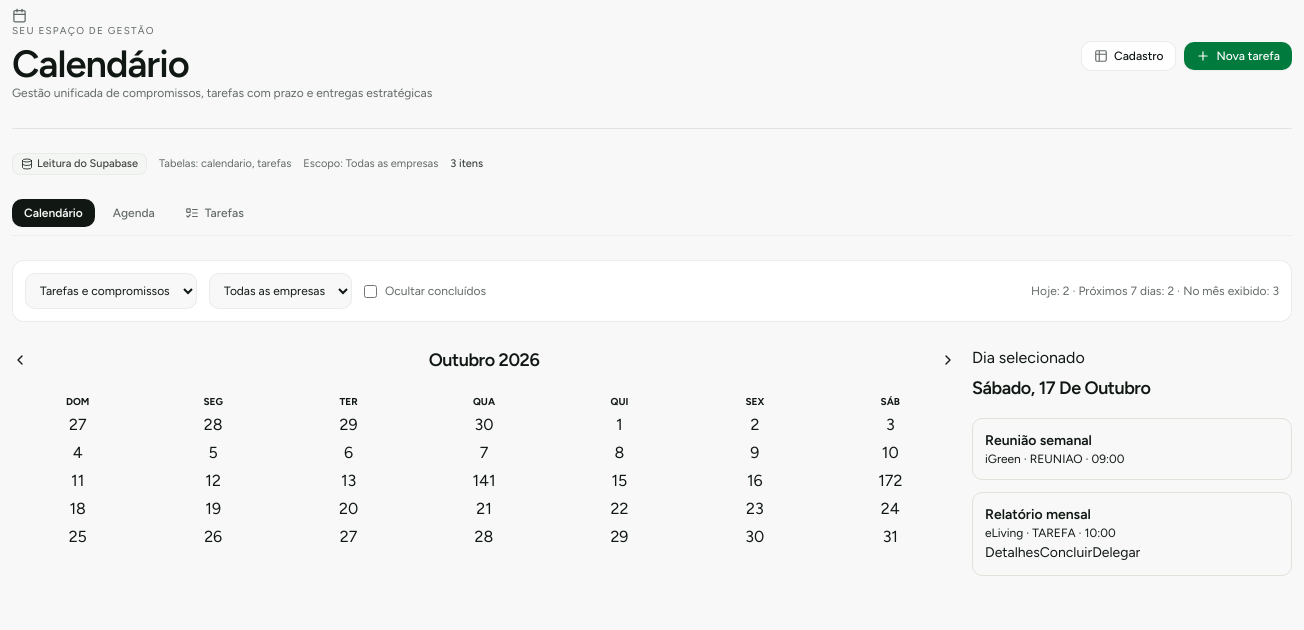
Scenario: período "a partir de hoje" esconde itens passados da agenda
Expected: the element named "Origem dos dados" is shown, [12, 152, 483, 175]
Click the button "Agenda" at (134, 213), box [101, 199, 167, 227]
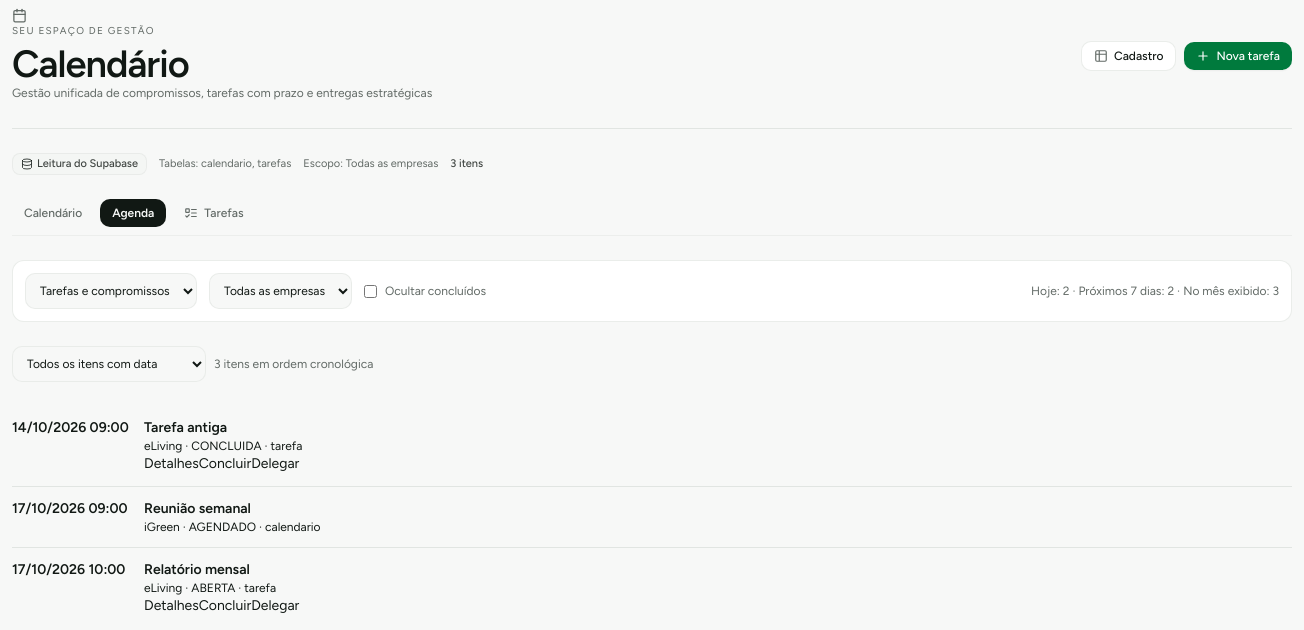
Select "A partir de hoje" in the dropdown named "Período da agenda" at (109, 364), box [12, 346, 206, 382]
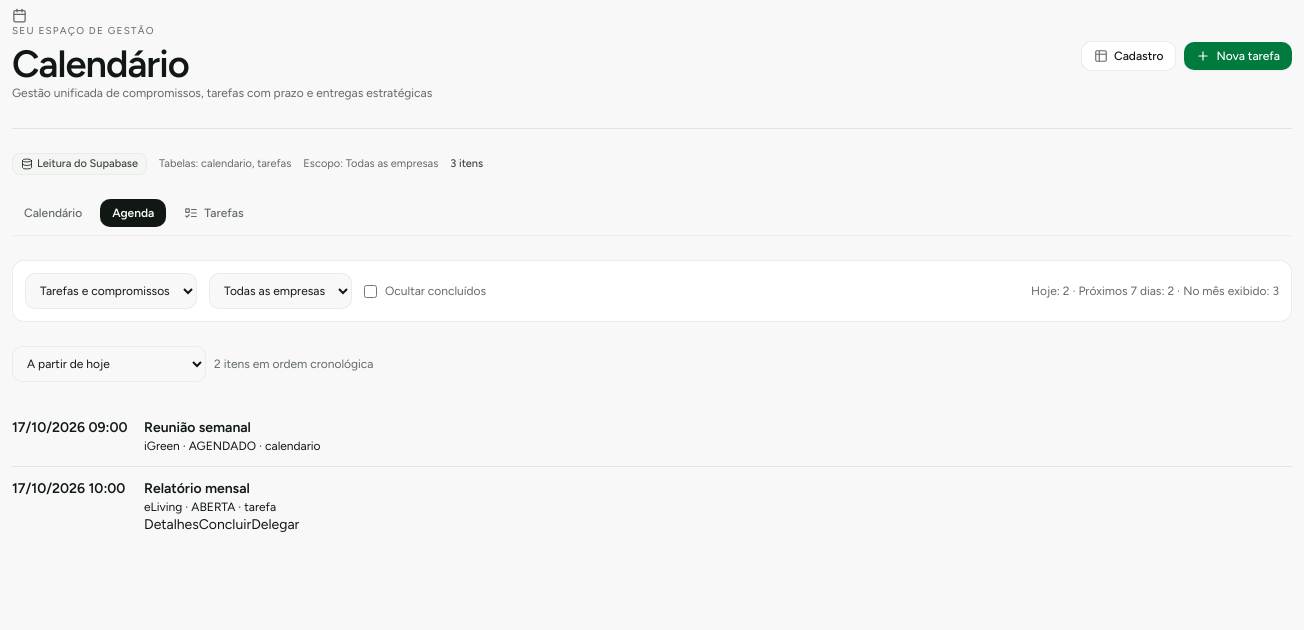
Expected: the text "Reunião semanal" is shown, [144, 419, 251, 436]
Expected: the text "Tarefa antiga" is gone
